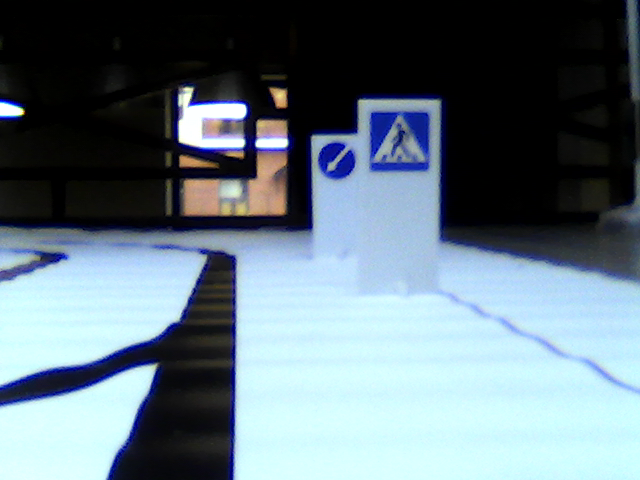pesh: (367, 108, 431, 171)
prep: (317, 141, 357, 181)
